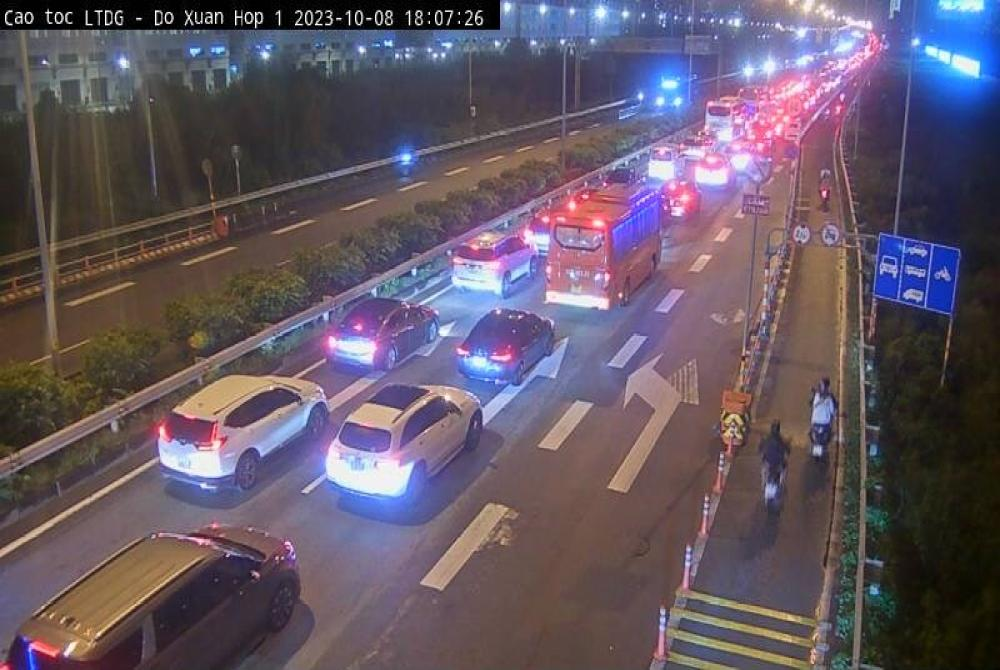bus: (543, 172, 655, 334)
car: (0, 510, 307, 670), (149, 361, 329, 526), (304, 377, 499, 527), (457, 292, 562, 428), (319, 290, 443, 391), (444, 223, 542, 313)
